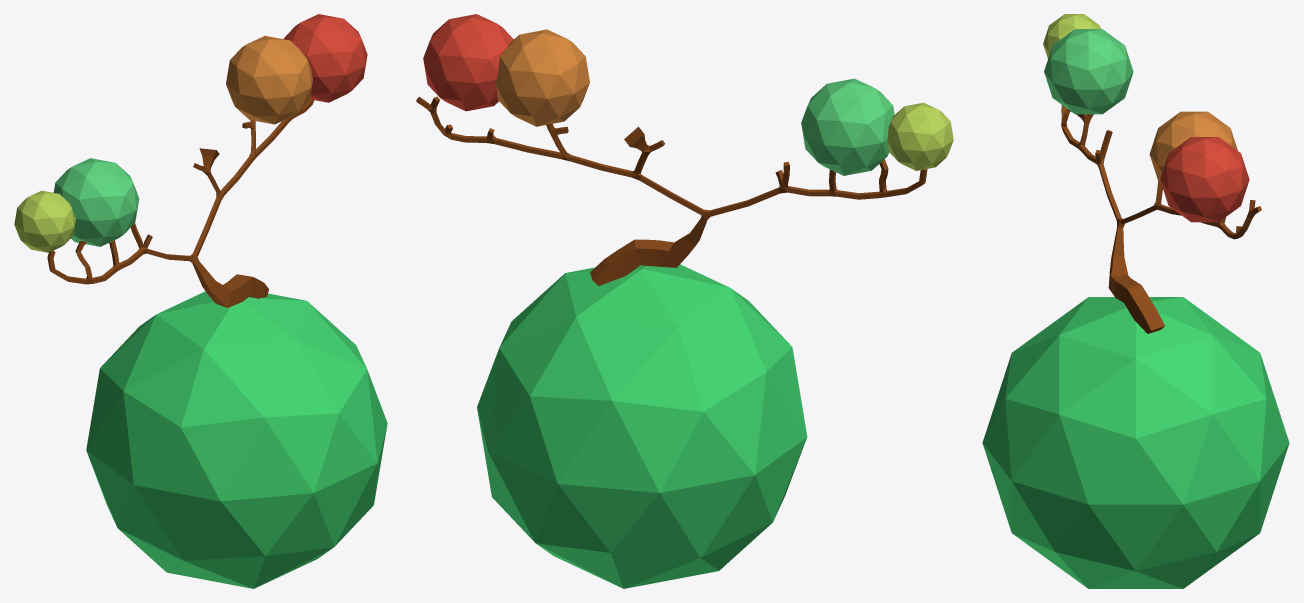
File: tree.gltf
3 renders of one model, left to right at view 1: azimuth 30°, elevation 25°; view 2: azimuth 150°, elevation 25°; view 3: azimuth 270°, elevation 25°, orthographic. The views are drawn at different scales.
Parts seen in each view (by area): view 1: Icosphere.004, Icosphere.001, Cube, Icosphere.003, Icosphere.002, Icosphere; view 2: Icosphere.004, Cube, Icosphere.001, Icosphere.003, Icosphere.002, Icosphere; view 3: Icosphere.004, Icosphere.003, Icosphere.002, Cube, Icosphere.001, Icosphere.
Part boxes in pixels (bbox=[...]): Icosphere.004: bbox=[86, 291, 387, 588]; Icosphere.001: bbox=[226, 35, 312, 124]; Cube: bbox=[47, 99, 313, 307]; Icosphere.003: bbox=[53, 158, 139, 246]; Icosphere.002: bbox=[283, 14, 367, 102]; Icosphere: bbox=[14, 190, 75, 252]; Icosphere.004: bbox=[477, 264, 807, 588]; Cube: bbox=[416, 96, 927, 285]; Icosphere.001: bbox=[496, 29, 589, 126]; Icosphere.003: bbox=[801, 78, 894, 175]; Icosphere.002: bbox=[423, 14, 513, 111]; Icosphere: bbox=[887, 102, 953, 170]; Icosphere.004: bbox=[982, 297, 1289, 588]; Icosphere.003: bbox=[1044, 29, 1133, 114]; Icosphere.002: bbox=[1160, 137, 1249, 222]; Cube: bbox=[1061, 105, 1261, 333]; Icosphere.001: bbox=[1149, 111, 1237, 182]; Icosphere: bbox=[1043, 14, 1100, 58].
Size of the model in its own units: 13.23 by 15.65 by 8.68.
